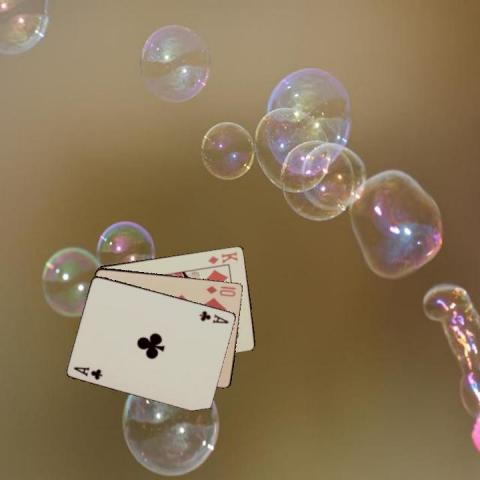10d: (203, 283, 237, 298)
Ac: (197, 307, 230, 325), (71, 363, 104, 381)
Kd: (206, 248, 240, 265)
